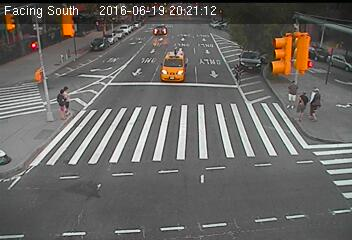neg: (116, 113, 147, 154), (231, 166, 257, 200), (35, 183, 59, 215), (295, 161, 317, 190), (152, 127, 173, 156), (227, 61, 248, 88), (195, 115, 214, 139), (97, 32, 115, 57), (169, 56, 185, 77), (81, 177, 97, 198), (165, 183, 179, 203), (267, 36, 281, 55)
pos: (279, 76, 304, 110), (291, 89, 316, 122), (305, 83, 330, 116), (50, 88, 71, 116)
